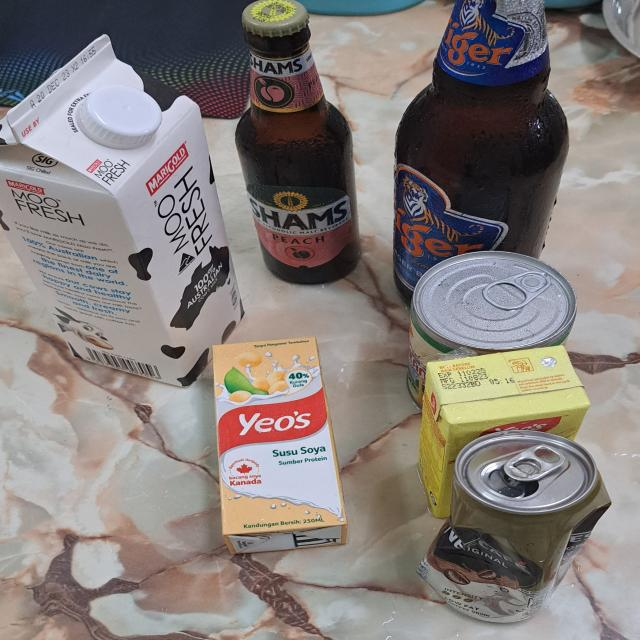can: (416, 430, 613, 622), (409, 251, 579, 401)
drink carton: (0, 34, 238, 388), (213, 337, 348, 553), (427, 344, 588, 516)
glass bottle: (395, 0, 568, 302), (231, 0, 360, 283)
plastic bottle cap: (74, 85, 163, 152)
pop tab: (504, 444, 568, 484), (486, 269, 549, 309)
